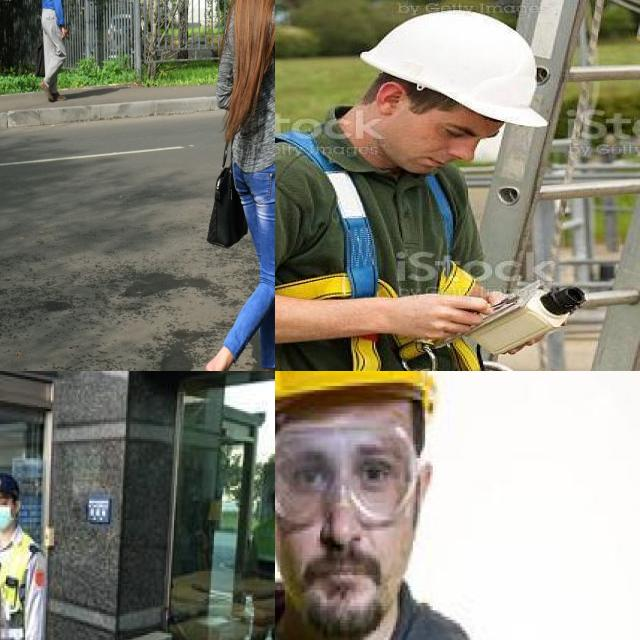face_mask: (0, 492, 14, 530)
face_nomask: (278, 448, 412, 607)
glasses: (275, 412, 418, 523)
head_helmet: (275, 371, 421, 416)
head_nohelmet: (0, 471, 20, 503)
person: (275, 371, 597, 640)
vest: (0, 530, 35, 640)
